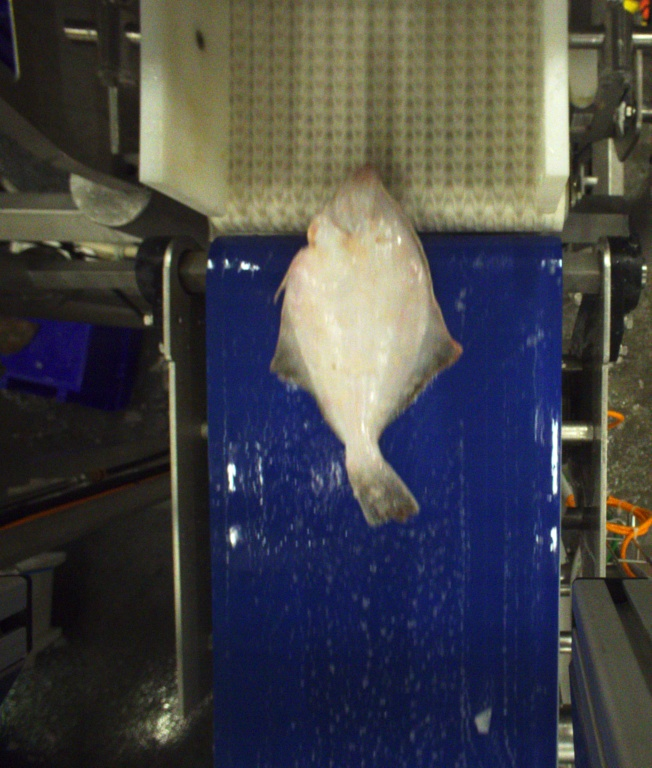PLE: (267, 162, 464, 524)
